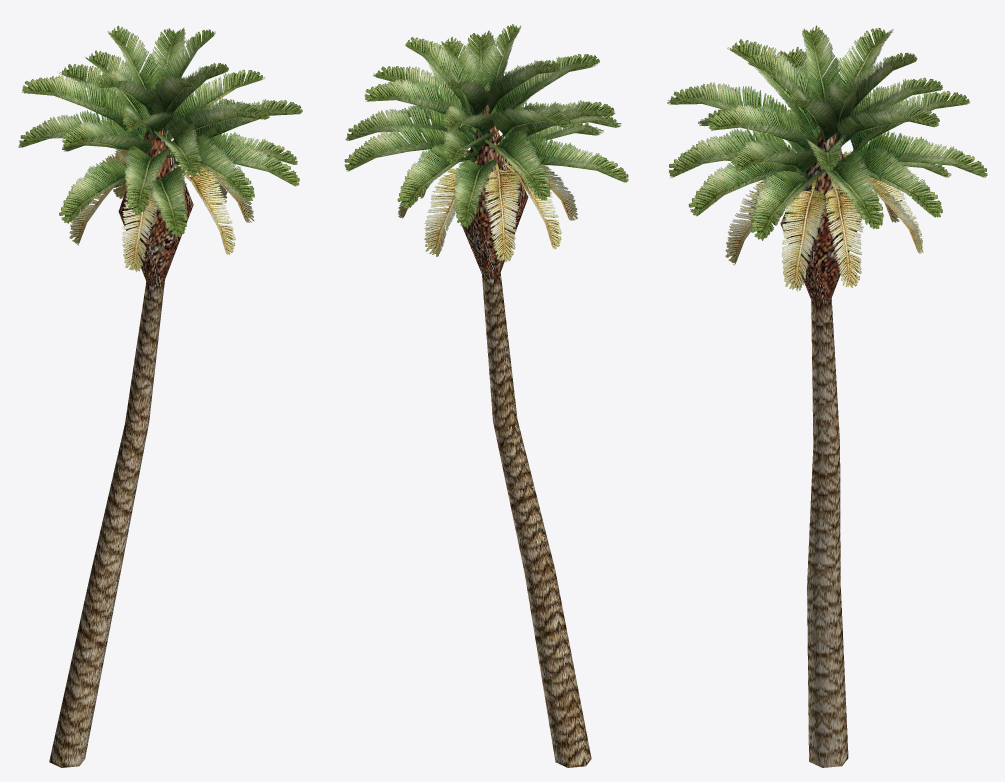
The model's file is flora_tree_cretan_date_palm_tall_v4.glb.
3 views of the same model, side by side, from view 1: azimuth 30°, elevation 25°; view 2: azimuth 150°, elevation 25°; view 3: azimuth 270°, elevation 25° (orthographic). The views are drawn at different scales.
Visible parts, largest first — view 1: flora_tree_cretan_date_palm_tall_v4_part0; view 2: flora_tree_cretan_date_palm_tall_v4_part0; view 3: flora_tree_cretan_date_palm_tall_v4_part0.
Boxes of the visible parts, x1,y1,x2,y2 form: flora_tree_cretan_date_palm_tall_v4_part0: [18, 25, 302, 767]; flora_tree_cretan_date_palm_tall_v4_part0: [344, 24, 628, 767]; flora_tree_cretan_date_palm_tall_v4_part0: [667, 25, 987, 767].
Size of the model in its own units: 9.03 by 23.91 by 9.32.
Materials: 1 (1 with a texture image).
